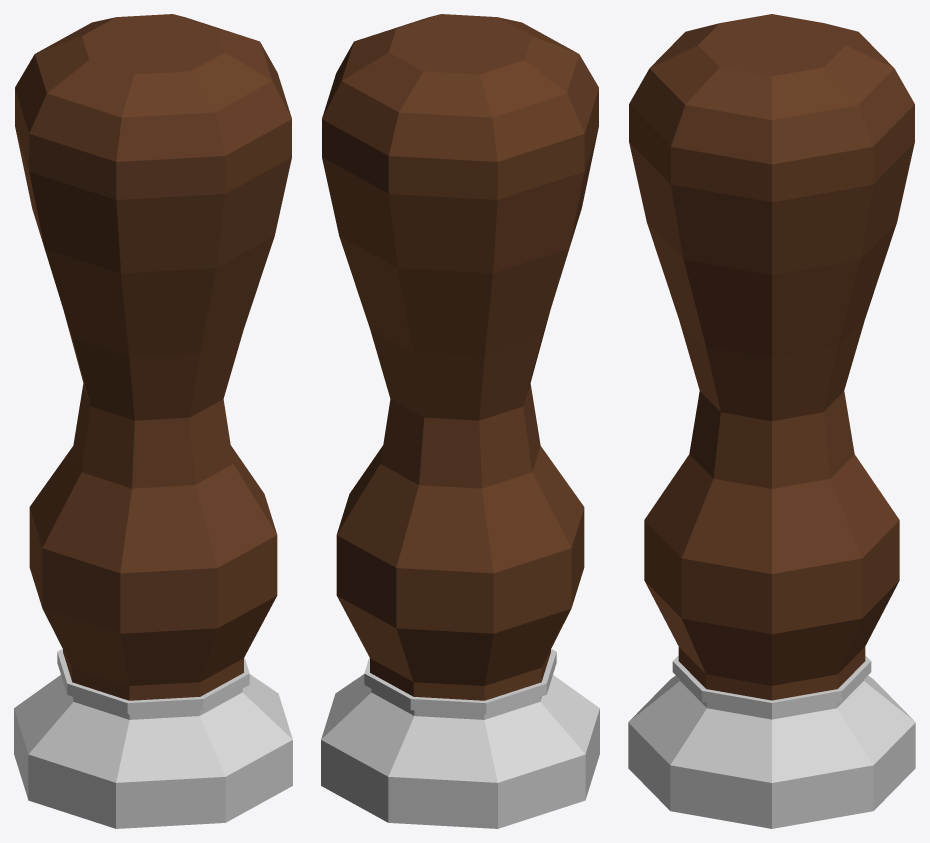
Rendered from letterstamp01.gltf.
3 views of the same model, side by side, from view 1: azimuth 30°, elevation 25°; view 2: azimuth 150°, elevation 25°; view 3: azimuth 270°, elevation 25° (orthographic).
Parts seen in each view (by area): view 1: Cylinder.001; view 2: Cylinder.001; view 3: Cylinder.001.
Part boxes in pixels (box(x1,y1,x2,y2)): Cylinder.001: box(14, 14, 292, 828); Cylinder.001: box(321, 14, 599, 828); Cylinder.001: box(628, 14, 915, 828).
Bounding box in the file's own units: 0.0285 × 0.079 × 0.0285.
Materials: 1 (1 with a texture image).
